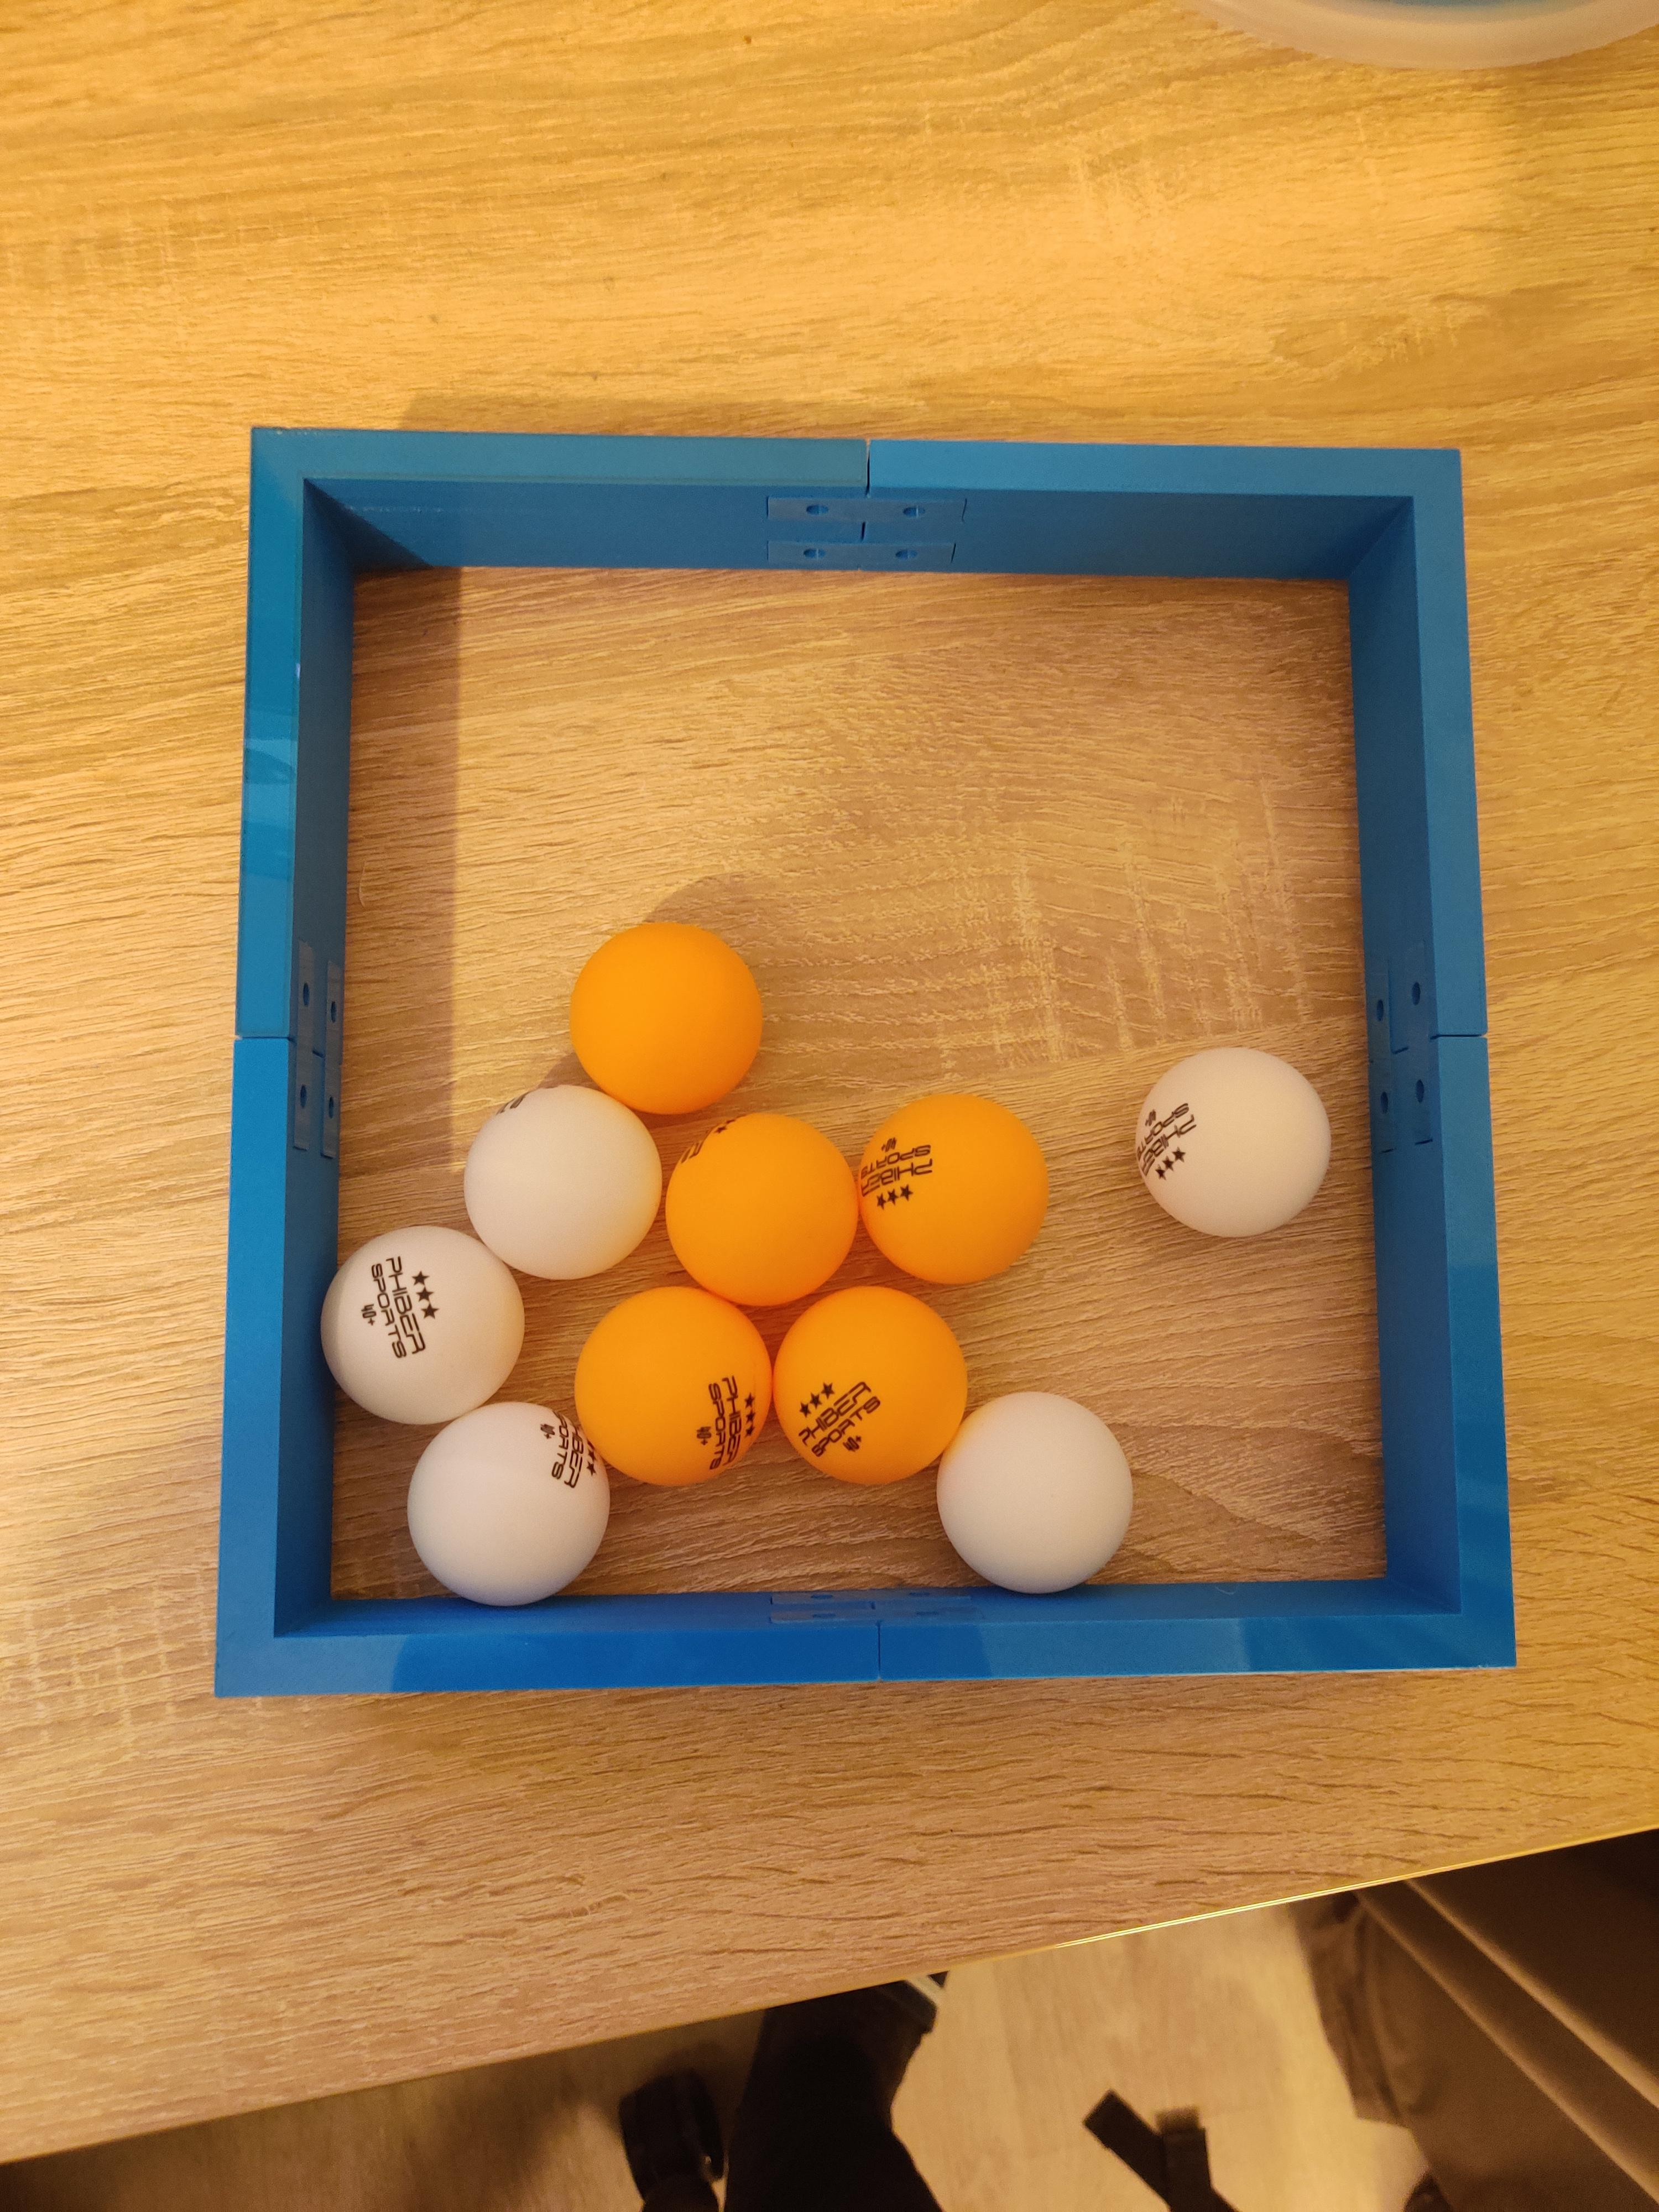orange: (772, 1280, 978, 1484), (565, 916, 772, 1118), (582, 1280, 774, 1498), (856, 1082, 1054, 1287), (667, 1104, 864, 1310)
white: (932, 1379, 1143, 1604), (408, 1397, 615, 1613), (317, 1223, 530, 1432), (460, 1082, 666, 1287), (1133, 1043, 1335, 1249)
